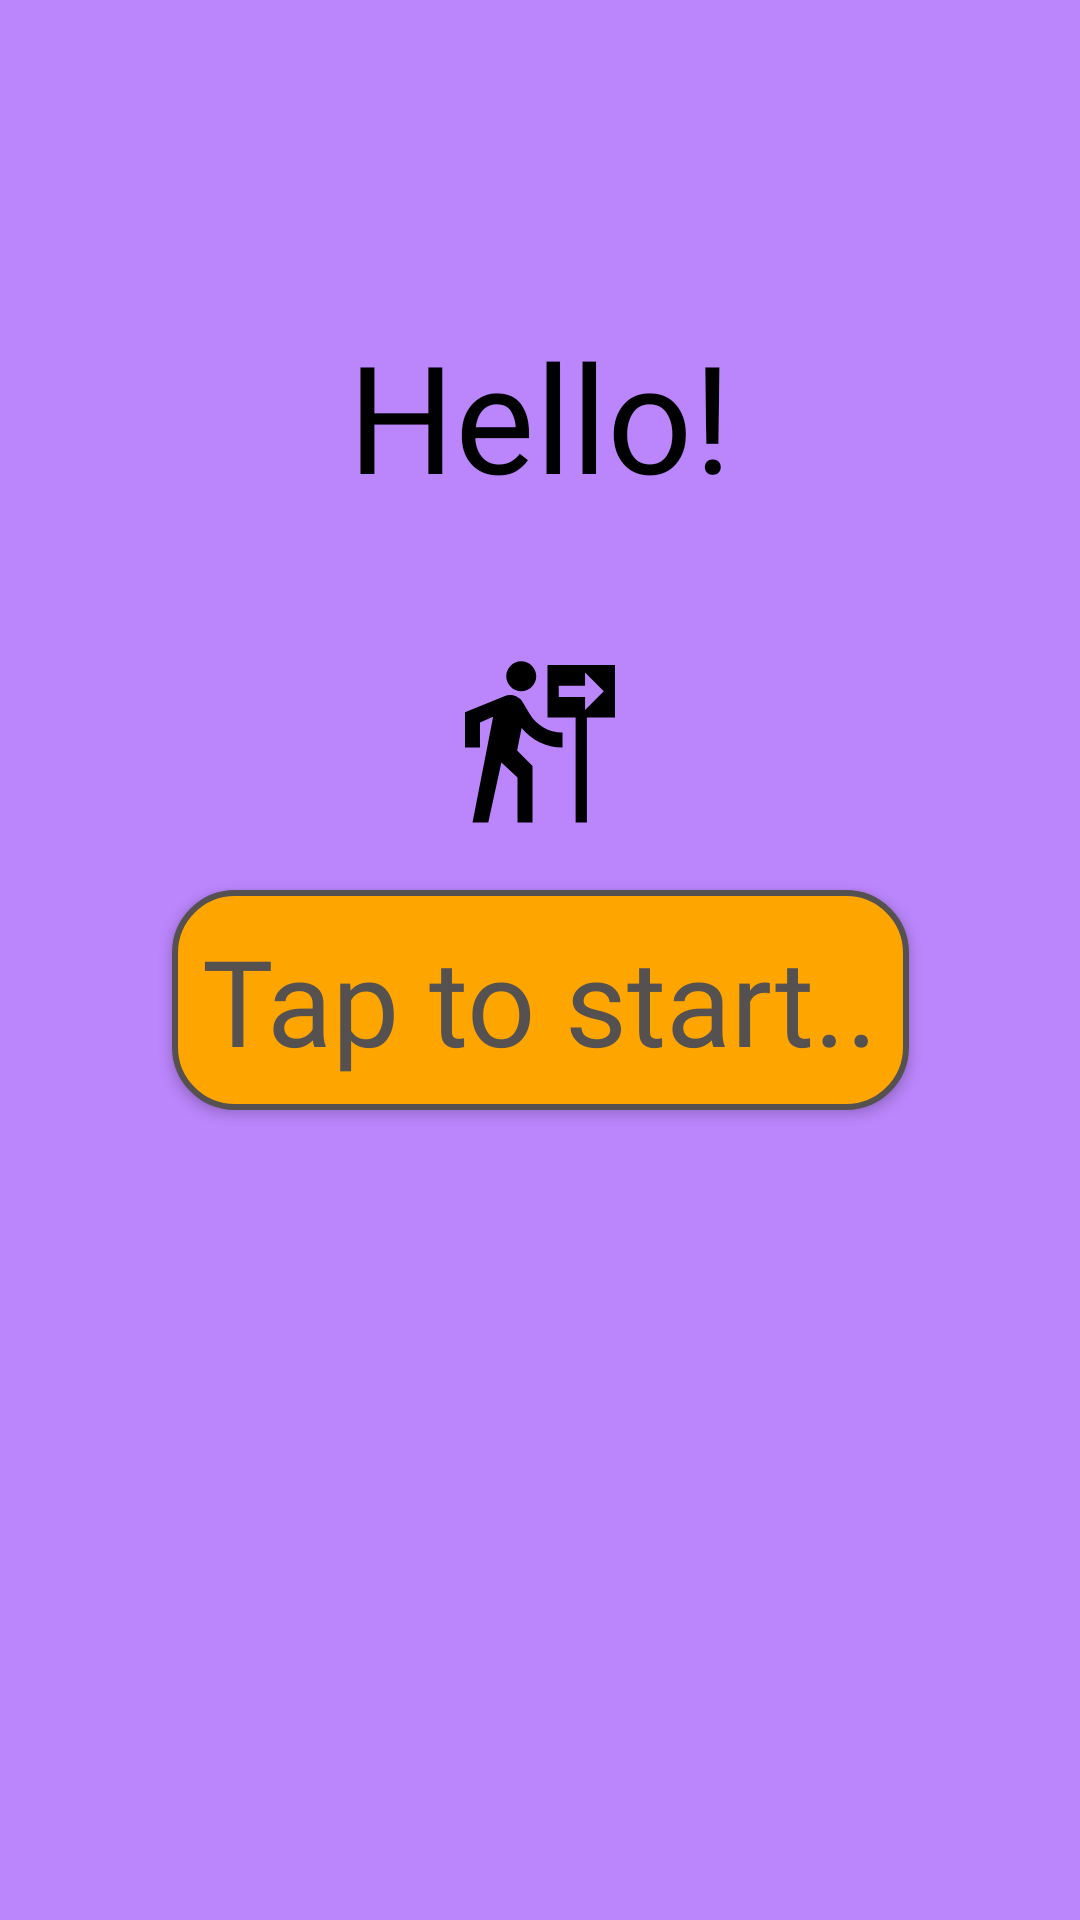

Icons on this 1080 x 1920 Android screen, each with its box as (x1, y1, x2, y2):
follow: (465, 661, 615, 823)
